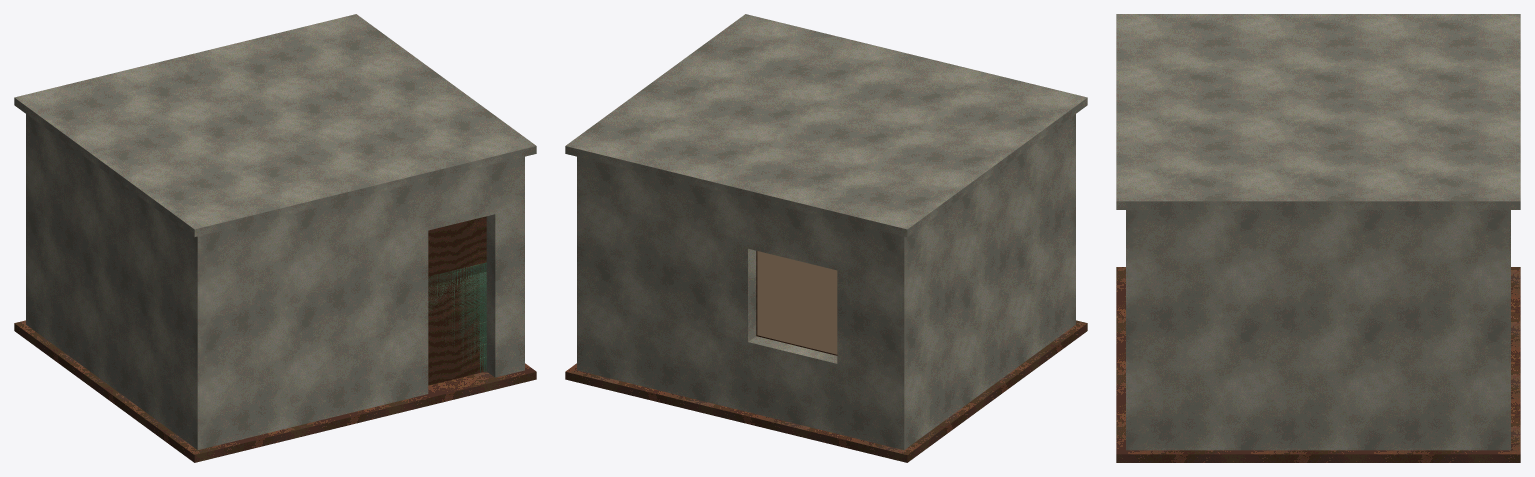
The model's file is clinica.glb.
3 renders of one model, left to right at view 1: azimuth 30°, elevation 25°; view 2: azimuth 150°, elevation 25°; view 3: azimuth 270°, elevation 25°, orthographic. The views are drawn at different scales.
Parts seen in each view (by area): view 1: plaster-col, wood_dark, linoleum-col, paint_green; view 2: plaster-col, linoleum-col, autumn_view; view 3: plaster-col, linoleum-col.
Boxes of the visible parts, x1=… form: plaster-col: x1=14, y1=14, x2=536, y2=449; wood_dark: x1=428, y1=216, x2=486, y2=385; linoleum-col: x1=14, y1=320, x2=536, y2=462; paint_green: x1=428, y1=262, x2=486, y2=372; plaster-col: x1=565, y1=14, x2=1087, y2=449; linoleum-col: x1=565, y1=320, x2=1087, y2=462; autumn_view: x1=757, y1=251, x2=837, y2=354; plaster-col: x1=1116, y1=14, x2=1520, y2=450; linoleum-col: x1=1116, y1=267, x2=1520, y2=462.
Size of the model in its own units: 4.6 by 3 by 4.2.
30 materials, 10 textured.
